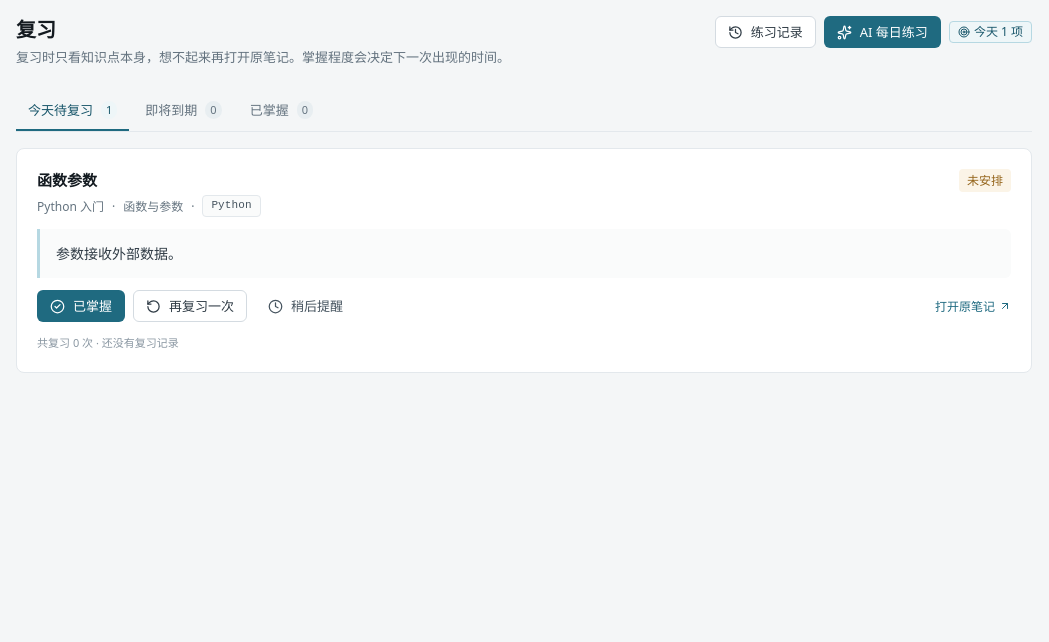
Test: AI review setup › shows the selected note before sending it and generates only after explicit confirmation
Click the button "AI 每日练习". click: point(882, 32)
box: [824, 16, 941, 48]
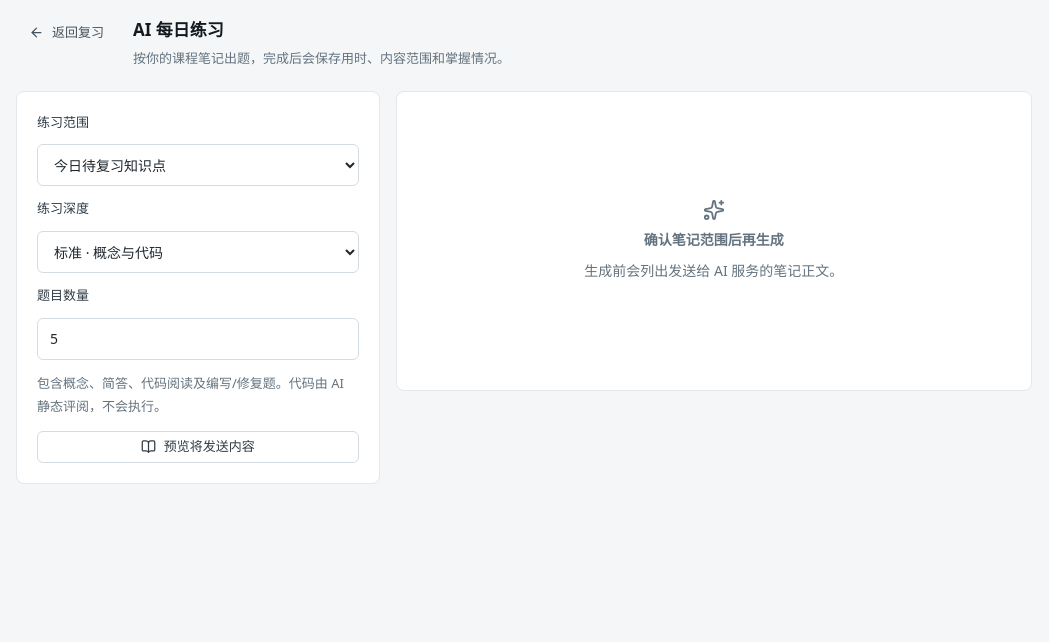
Click the button "预览将发送内容". click: point(198, 447)
box: [37, 431, 359, 463]
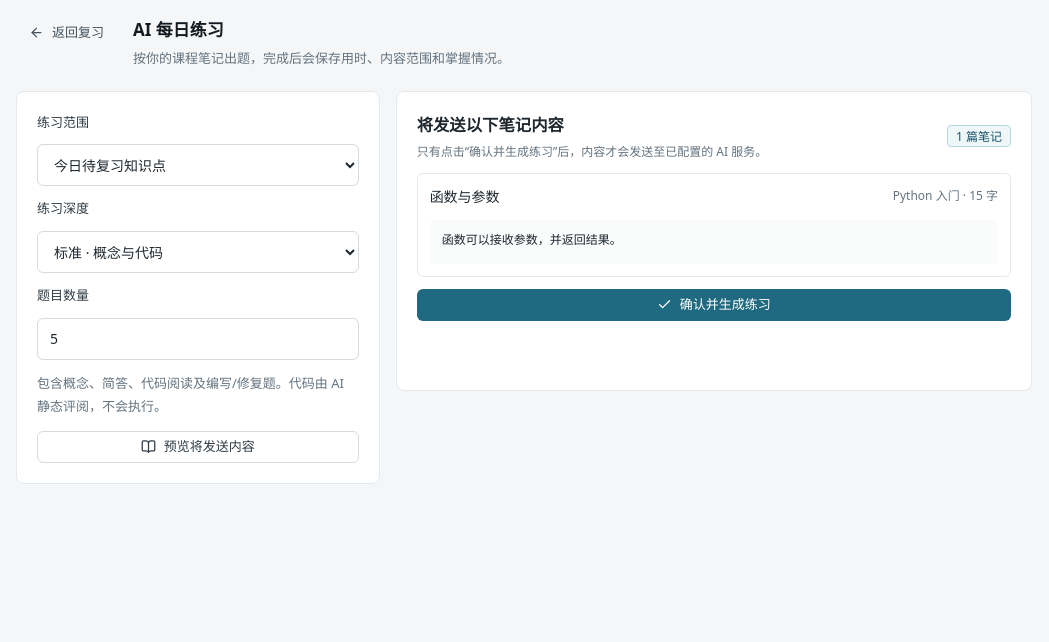
Expected: the text "函数可以接收参数，并返回结果。" is shown, [430, 220, 998, 264]
Click the button "确认并生成练习". click: point(714, 304)
box: [417, 288, 1011, 320]
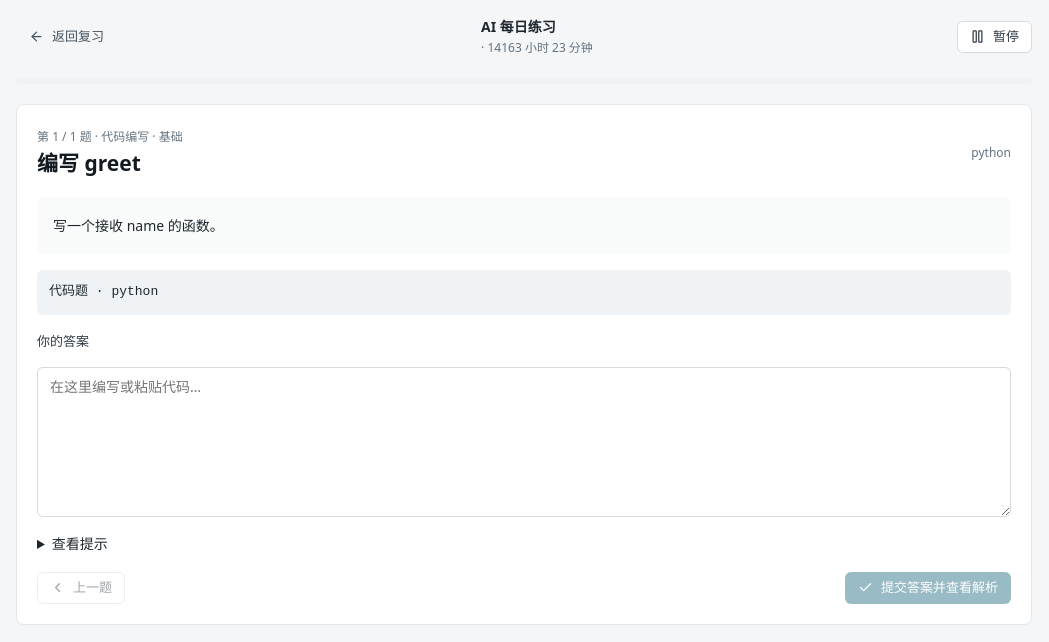
Expected: the heading "编写 greet" is shown, [37, 149, 141, 177]
